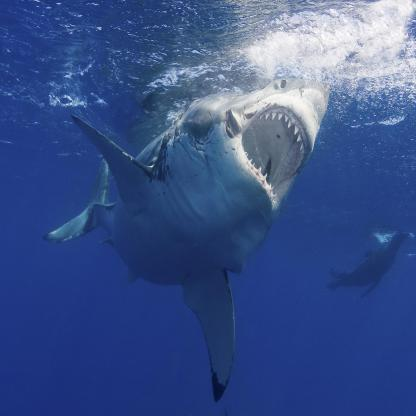white-shark: (50, 77, 332, 403)
